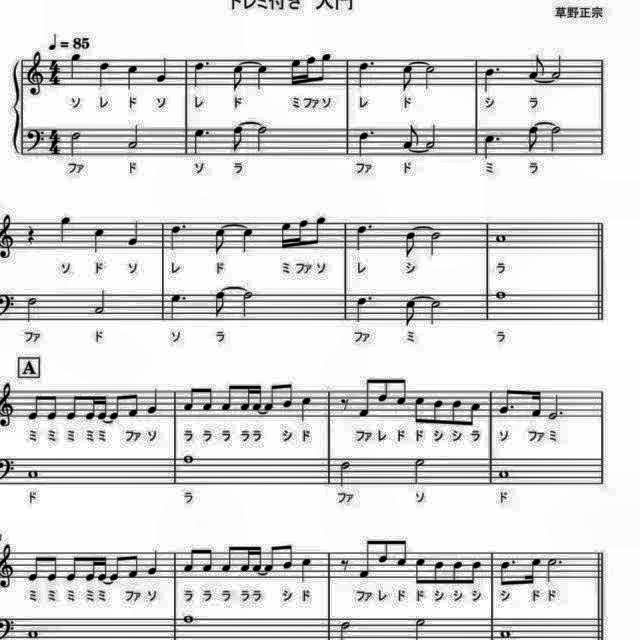Bass-clef: (24, 125, 48, 155)
Eighth-note: (356, 536, 374, 582), (356, 375, 372, 417), (399, 121, 421, 151), (496, 384, 516, 416), (210, 226, 230, 258), (525, 51, 547, 80), (312, 215, 330, 249), (398, 63, 416, 95), (230, 62, 248, 94), (394, 535, 410, 569), (218, 541, 234, 575), (26, 550, 42, 584), (404, 296, 421, 328), (497, 557, 515, 587), (524, 124, 542, 154), (44, 552, 60, 584), (65, 552, 81, 584), (65, 390, 81, 422), (44, 390, 60, 422), (218, 380, 234, 412), (412, 394, 428, 426), (280, 540, 296, 572), (376, 372, 392, 404), (181, 544, 197, 576), (212, 288, 228, 320), (264, 544, 280, 576), (404, 231, 421, 261), (230, 124, 247, 154), (26, 391, 42, 422), (264, 382, 280, 413), (448, 396, 464, 426), (412, 555, 428, 585), (126, 551, 142, 581), (126, 391, 142, 421), (200, 383, 216, 413), (280, 380, 296, 410), (376, 536, 392, 566), (394, 374, 408, 408), (468, 558, 484, 586), (318, 52, 332, 84), (109, 552, 123, 584), (109, 390, 123, 422), (430, 398, 444, 428), (431, 557, 445, 587), (202, 545, 216, 575), (182, 383, 196, 413), (468, 402, 484, 428), (451, 558, 465, 586)
Eighth-rest: (338, 394, 354, 414), (338, 556, 354, 576)
Full-note: (492, 233, 510, 247), (24, 466, 42, 480), (496, 466, 512, 479), (180, 614, 196, 626), (180, 452, 196, 464), (492, 288, 508, 300)
Half-dot: (542, 554, 564, 584), (547, 390, 567, 420)
Half-note: (239, 290, 257, 322), (126, 120, 144, 152), (90, 284, 108, 316), (548, 124, 566, 156), (420, 64, 440, 92), (23, 295, 41, 325), (68, 126, 84, 158), (421, 122, 439, 150), (254, 123, 270, 153), (338, 459, 354, 489), (412, 458, 428, 488), (550, 52, 566, 82), (426, 298, 442, 326), (426, 232, 442, 260)
Quarter-dot: (351, 222, 375, 254), (354, 60, 378, 92), (188, 125, 212, 157), (169, 219, 191, 253), (354, 128, 378, 158), (189, 58, 211, 90), (167, 292, 189, 324), (352, 294, 374, 326), (481, 64, 504, 94), (481, 132, 504, 160)
Quarter-note: (238, 226, 258, 258), (125, 218, 143, 250), (253, 62, 271, 94), (57, 214, 75, 246), (96, 59, 114, 90), (91, 225, 109, 255), (144, 546, 160, 578), (156, 54, 172, 86), (67, 51, 83, 81), (126, 62, 142, 92), (144, 385, 160, 415), (299, 394, 315, 424), (300, 554, 314, 582)
Quarter-rest: (24, 223, 40, 247)
Sixteenth-note: (526, 554, 544, 586), (238, 542, 254, 576), (287, 55, 303, 89), (278, 219, 294, 253), (528, 388, 544, 420), (302, 52, 318, 84), (294, 218, 310, 250), (84, 553, 100, 583), (96, 392, 110, 424), (96, 552, 110, 584), (239, 382, 253, 413), (84, 392, 98, 422), (249, 546, 263, 576), (251, 384, 263, 414)
Treble-clef: (26, 49, 46, 99)
